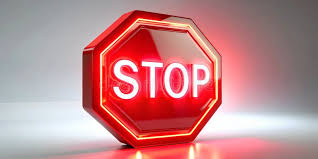stop sign: (82, 8, 224, 148)
